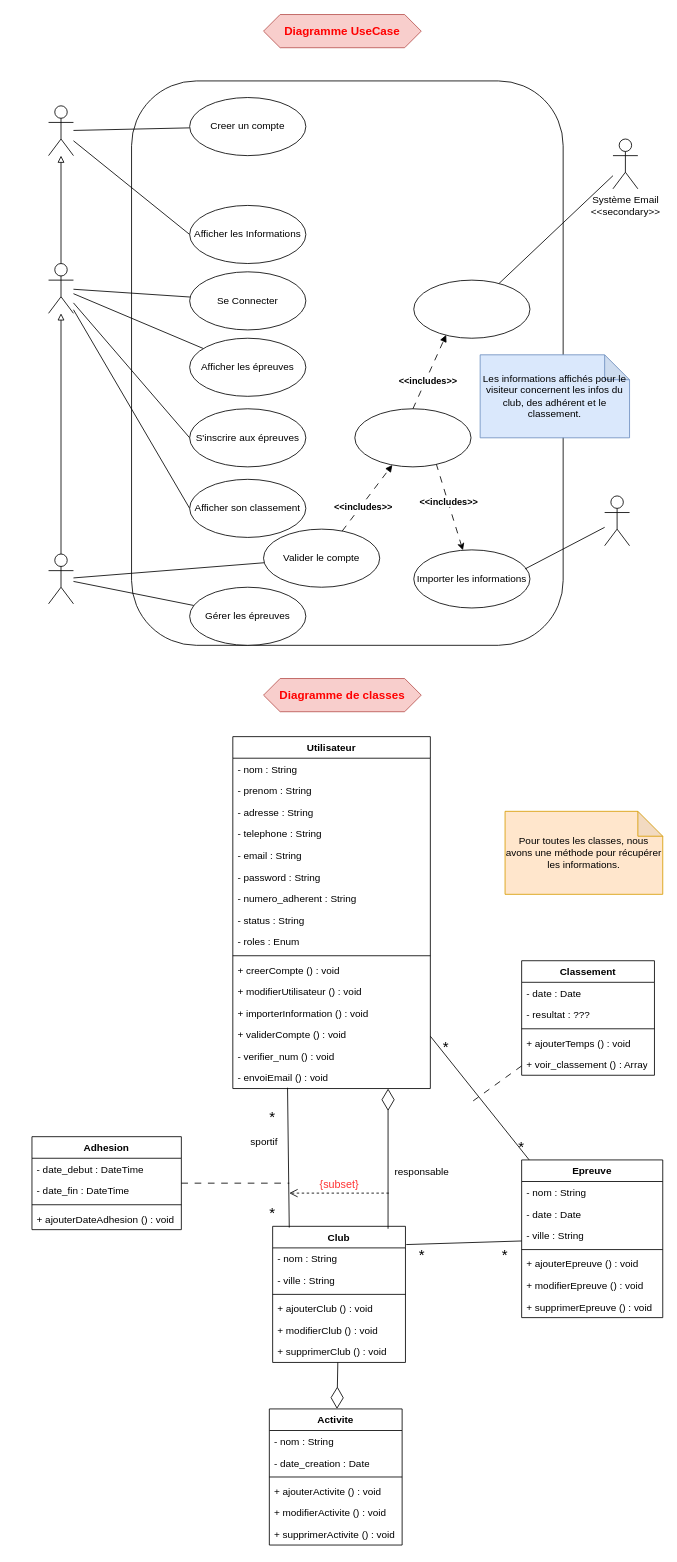
Some shapes in this 677 by 1562 pixel diagram are drawn without their labels. Here are the shapes that lost their labels. From the top down, the box of each, then its label:
(48, 105, 73, 156): Visiteur
(48, 263, 73, 313): Adhérent
(413, 279, 530, 338): Envoi Email
(354, 408, 471, 467): Vérifier numéro
(604, 495, 630, 546): système externe de données <<secondary>>
(48, 553, 73, 604): Responsable du club
